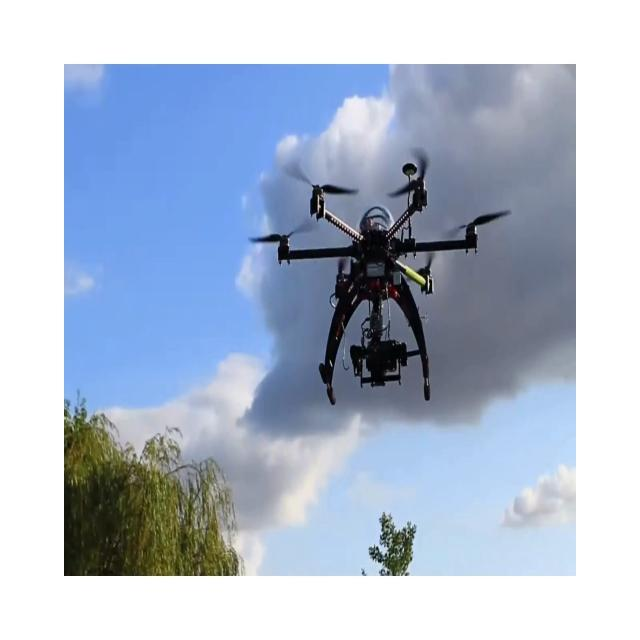drone: (248, 147, 511, 406)
